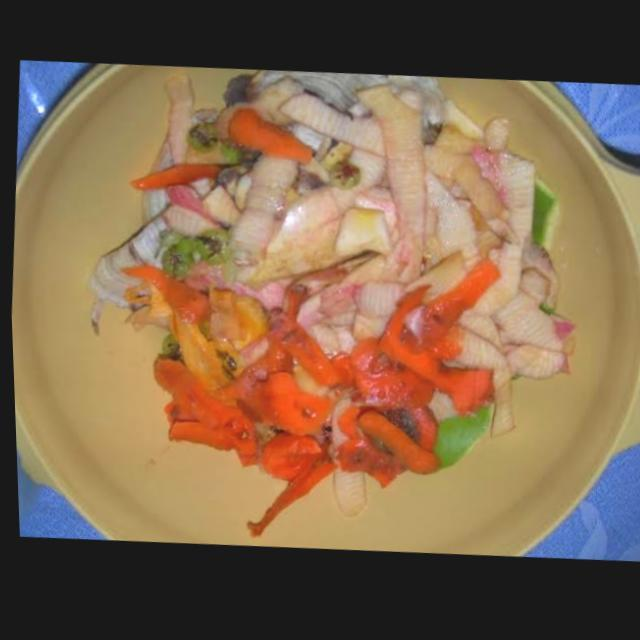biowaste: (374, 261, 499, 417), (469, 121, 556, 320), (356, 87, 423, 283), (151, 358, 255, 468), (241, 437, 333, 538), (442, 331, 509, 439), (226, 155, 297, 251), (275, 95, 383, 158), (233, 373, 336, 435), (488, 271, 558, 353), (119, 265, 207, 326), (354, 411, 435, 475), (226, 109, 310, 166), (333, 211, 389, 255), (128, 165, 221, 189), (353, 284, 400, 319)
